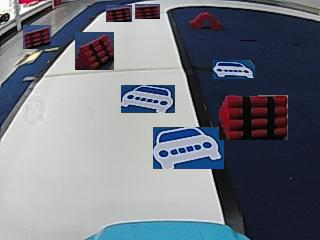bridge: (189, 11, 221, 29)
